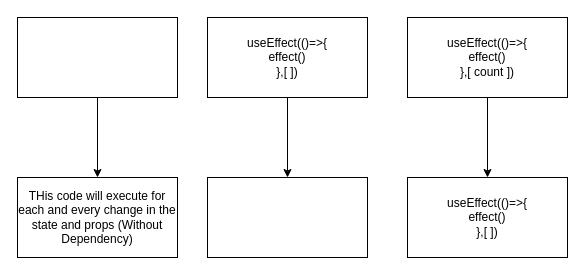
Image size: 585x275. Some labels were removed from this diagram. The shapes that lost their labels are listed below. From the top down, each one's box as (x1, y1, x2, y2) in pixels, then its label:
(16, 16, 178, 98): useEffect(()=>{ effect() })
(206, 176, 368, 258): This code will execute only once for the first render (Empty Dependecy)
